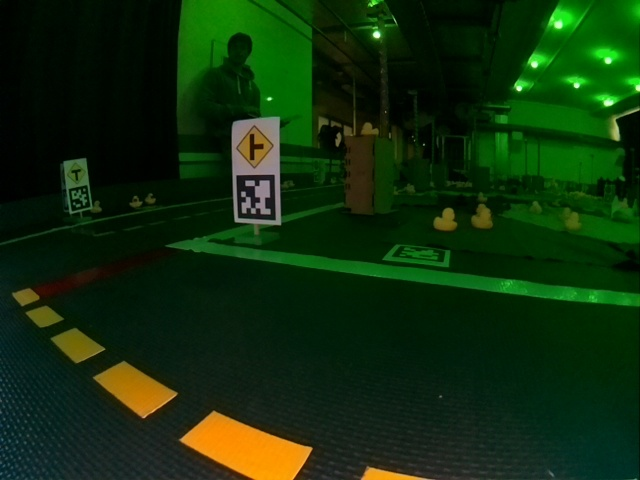Duckie: (435, 209, 457, 231), (472, 209, 491, 229), (361, 123, 379, 136), (91, 201, 102, 213), (130, 196, 142, 207), (145, 193, 156, 204)
Intersection sign: (235, 123, 274, 170), (67, 162, 86, 185)
QR code: (236, 175, 274, 221), (383, 245, 450, 267), (69, 186, 90, 212)
